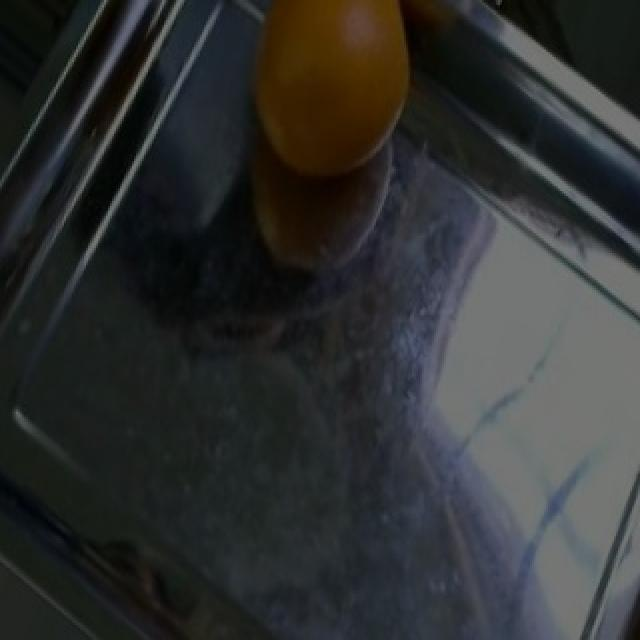Fruit: (222, 2, 442, 201)
